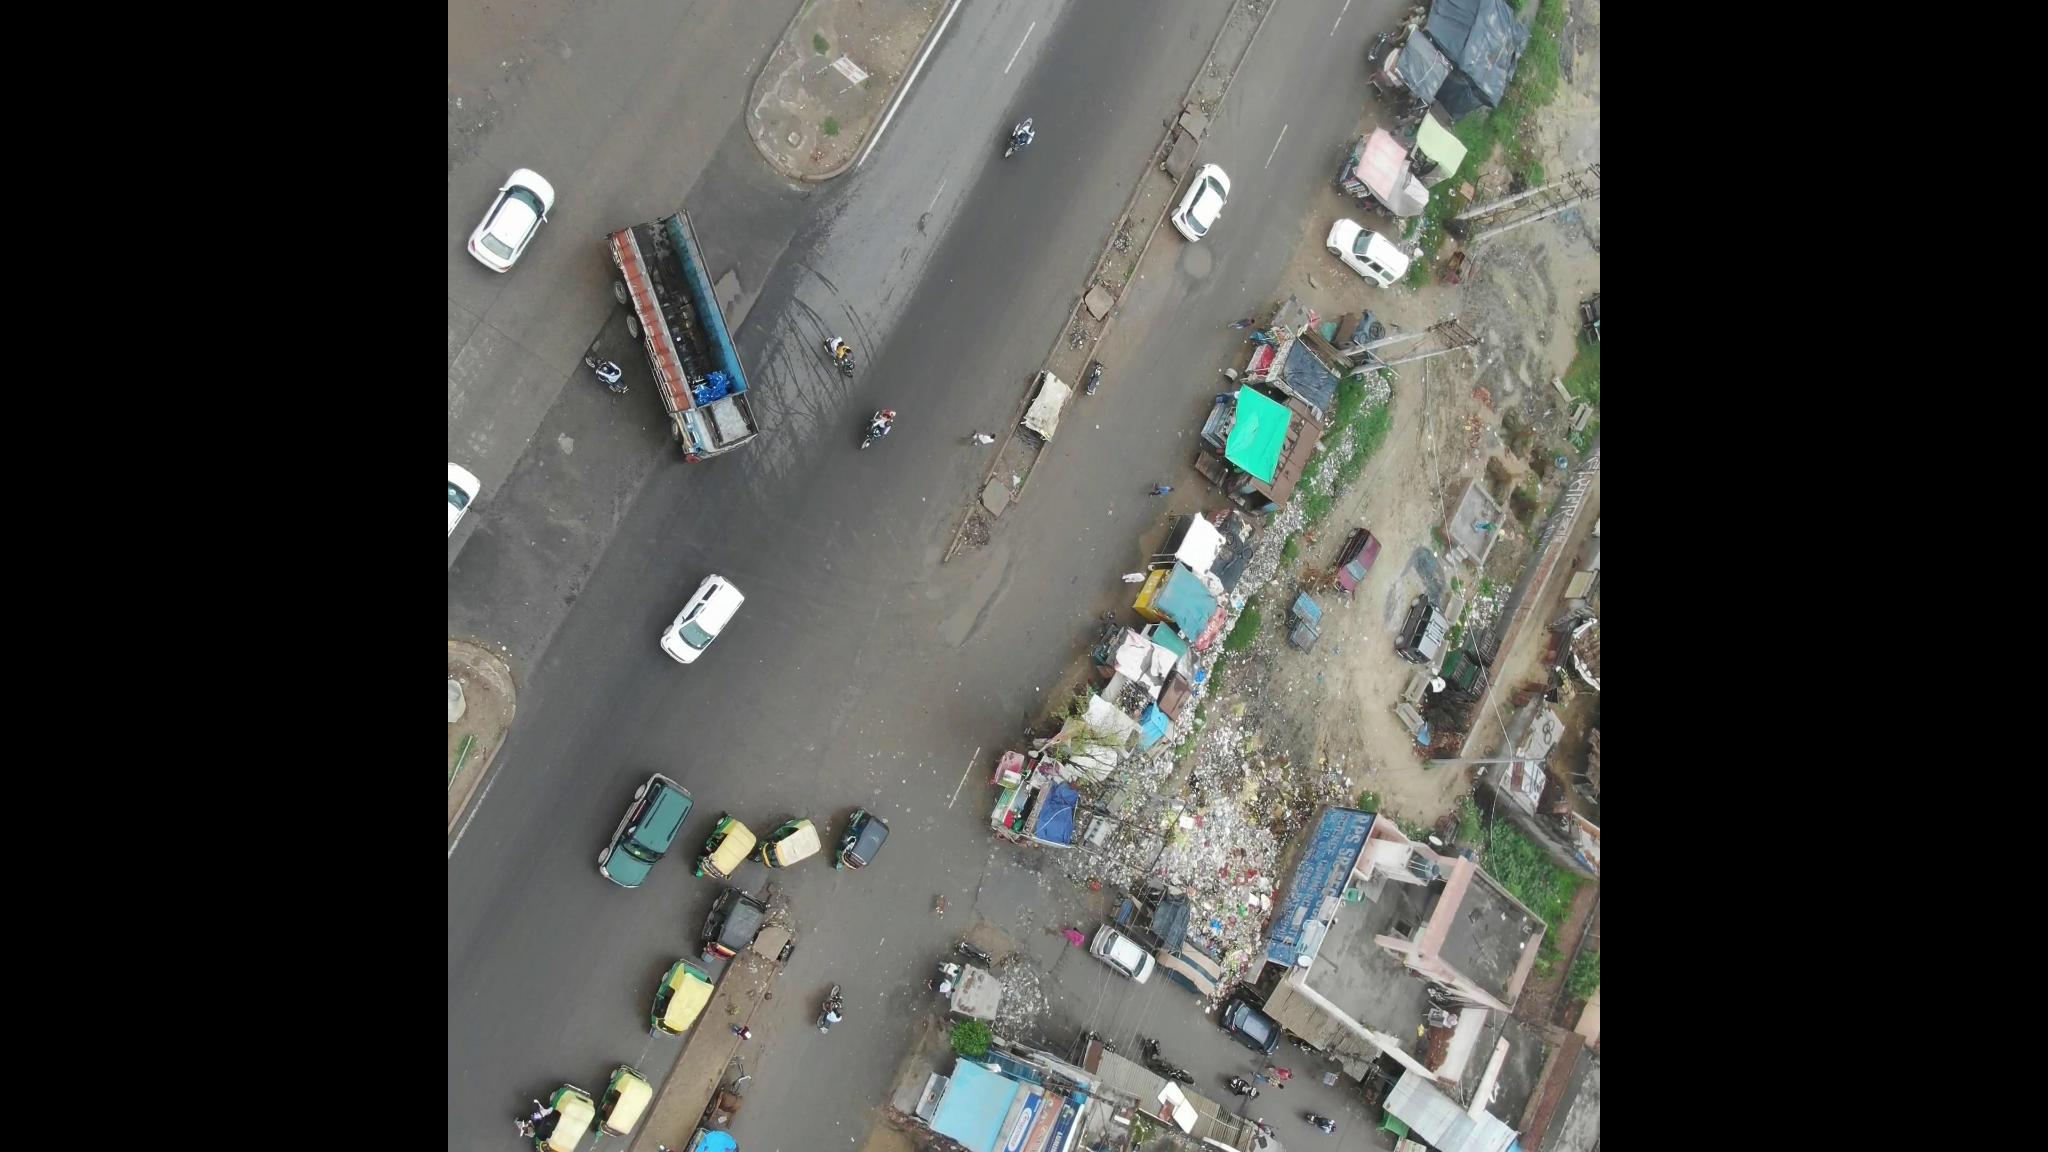Road_side_garbage: (1177, 727, 1324, 962)
